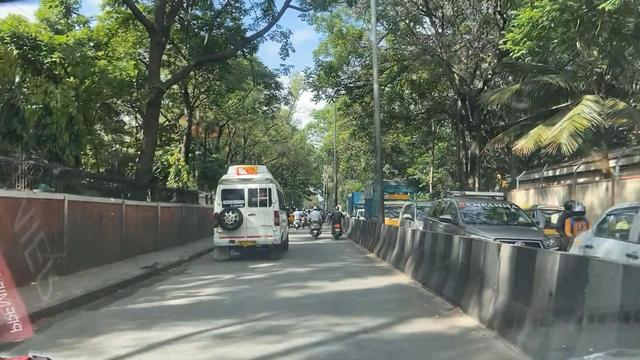HMV: (209, 156, 285, 259)
LMV: (308, 202, 324, 239), (332, 207, 344, 240)
